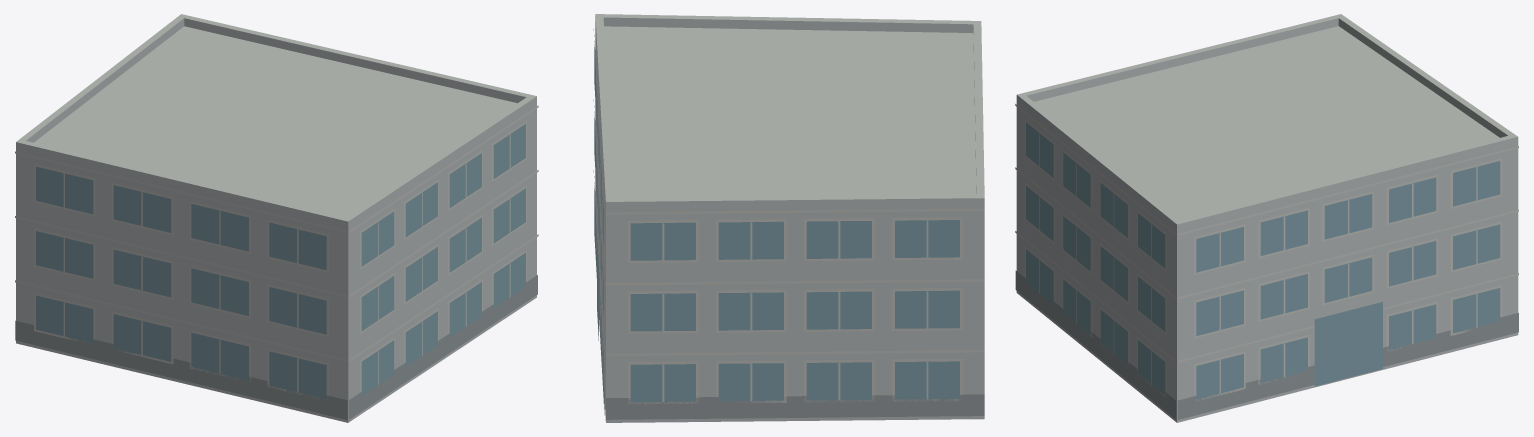
Rendered from public-c557b9fc-bb6d-4165-b25d-2b3656642c2e.glb.
The picture shows the model from 3 angles, left to right: view 1: azimuth 30°, elevation 25°; view 2: azimuth 150°, elevation 25°; view 3: azimuth 270°, elevation 25°; orthographic projection. The views are drawn at different scales.
Visible parts, largest first — view 1: public-c557b9fc-bb6d-4165-b25d-2b3656642c2e; view 2: public-c557b9fc-bb6d-4165-b25d-2b3656642c2e; view 3: public-c557b9fc-bb6d-4165-b25d-2b3656642c2e.
Boxes of the visible parts, <box> form: public-c557b9fc-bb6d-4165-b25d-2b3656642c2e: <box>15,14,538,422</box>; public-c557b9fc-bb6d-4165-b25d-2b3656642c2e: <box>593,14,984,422</box>; public-c557b9fc-bb6d-4165-b25d-2b3656642c2e: <box>1015,14,1518,422</box>.
Bounding box in the file's own units: 20.95 × 9.15 × 21.08.
